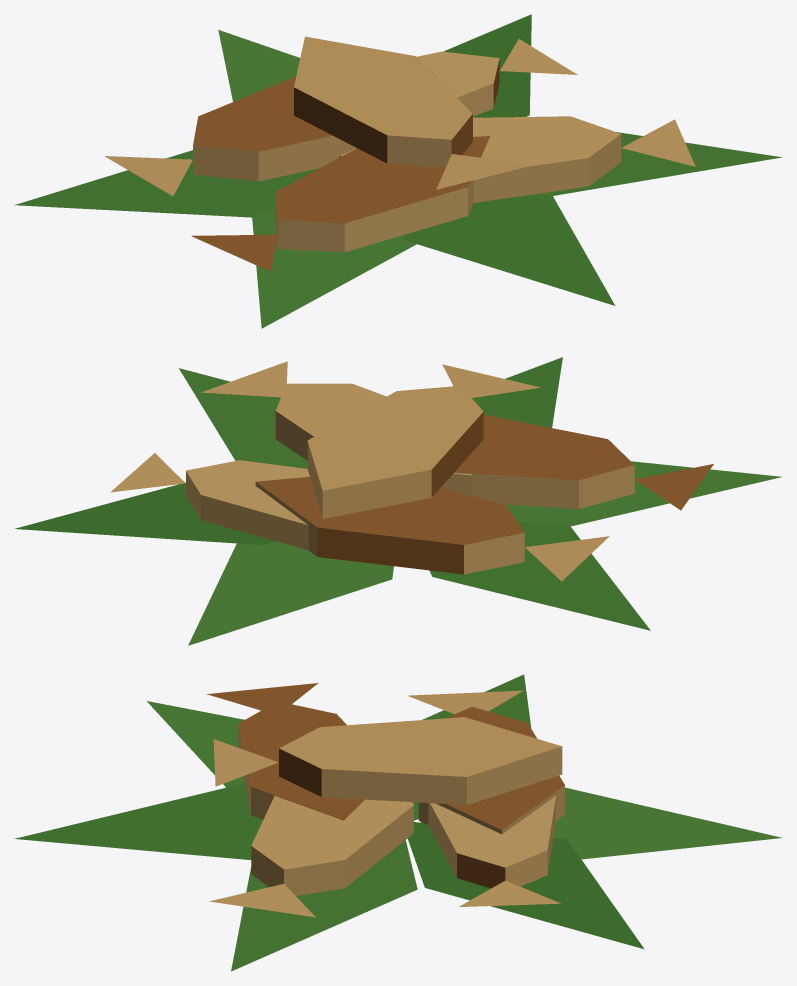
File: storage_cooked_fish.glb
3 renders of one model, top to bottom at view 1: azimuth 30°, elevation 25°; view 2: azimuth 150°, elevation 25°; view 3: azimuth 270°, elevation 25°, orthographic.
Visible parts, largest first — view 1: storage_cooked_fish; view 2: storage_cooked_fish; view 3: storage_cooked_fish.
Boxes of the visible parts, x1,y1,x2,y2 form: storage_cooked_fish: (14,14,781,328); storage_cooked_fish: (15,357,781,645); storage_cooked_fish: (14,674,782,971).
Bounding box in the file's own units: 1.88 × 0.2316 × 2.02.
